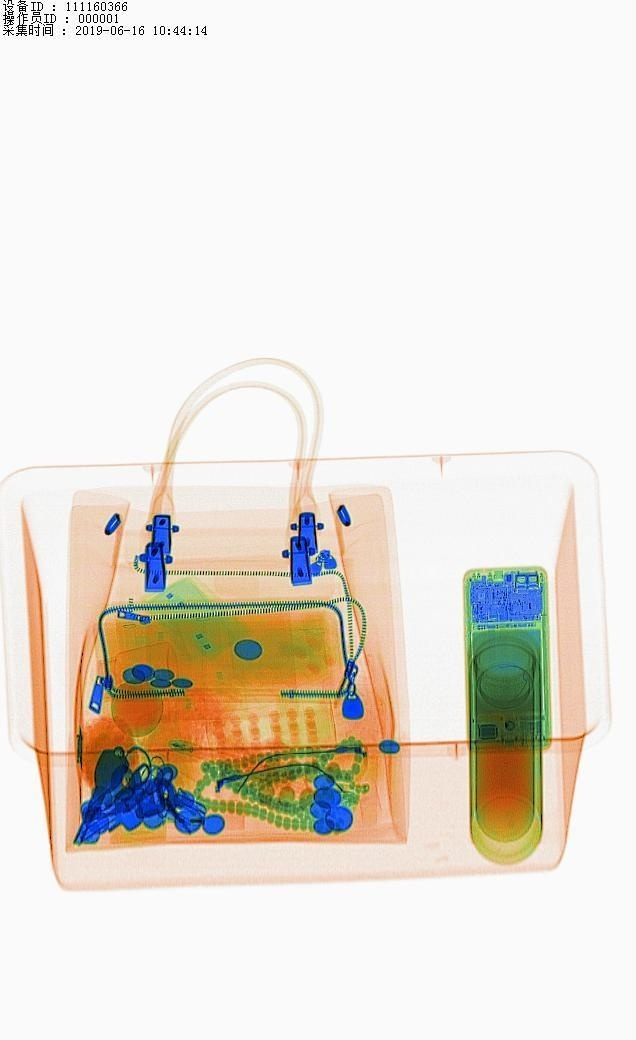NonmetallicFire: (148, 791, 275, 851)
